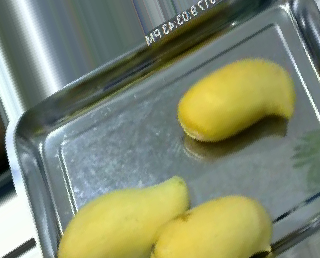Mango: (56, 177, 189, 258), (178, 59, 294, 142), (149, 194, 272, 258)
